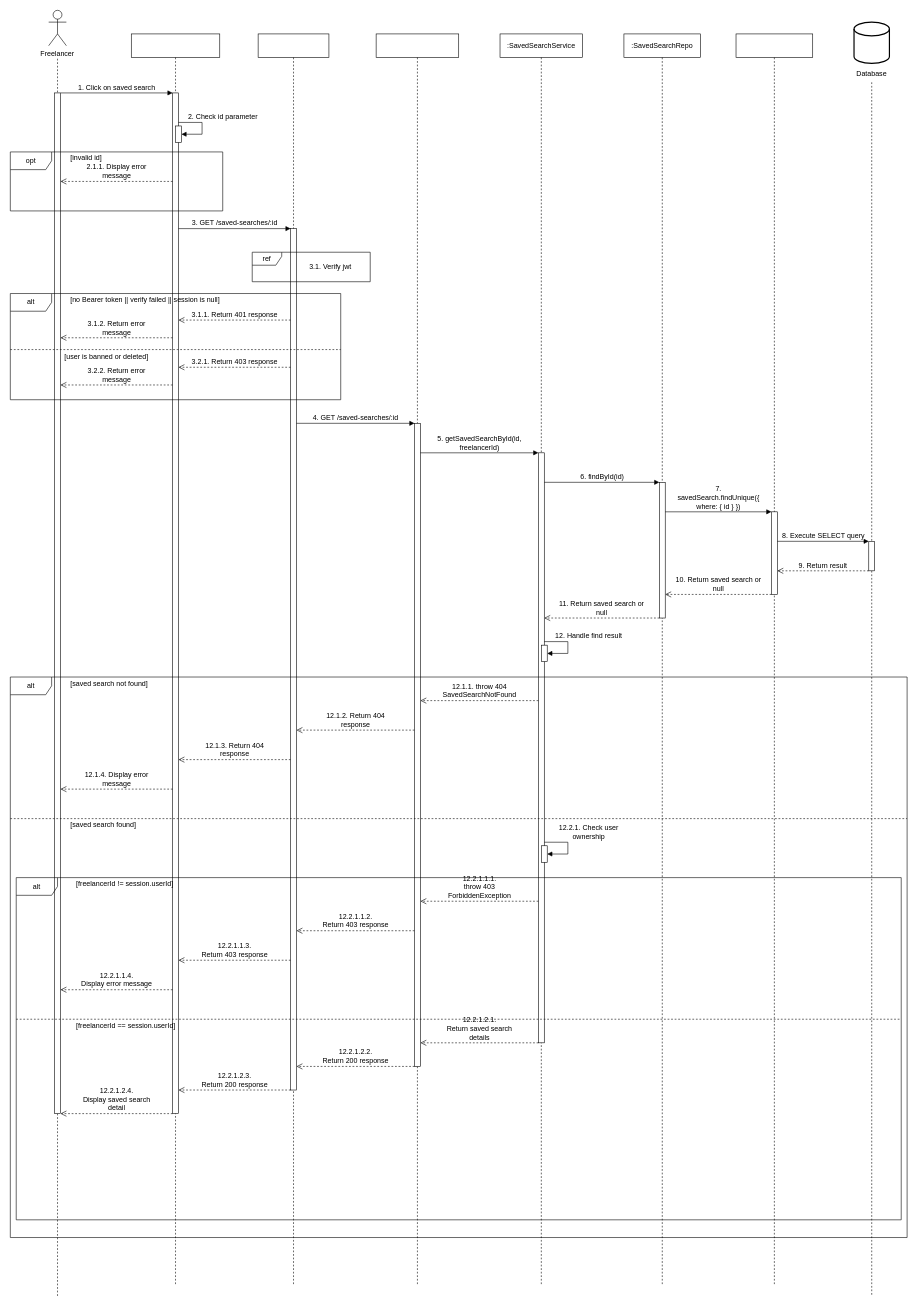
This 918x1307 diagram has some shape labels left out. Each missing label, with the box of its shape:
:PrismaService: (735, 33, 813, 1285)
:SavedSearchController: (376, 33, 459, 1285)
:SavedSearchPage: (131, 33, 220, 1285)
:SavedSearchRoute: (258, 33, 329, 1285)
